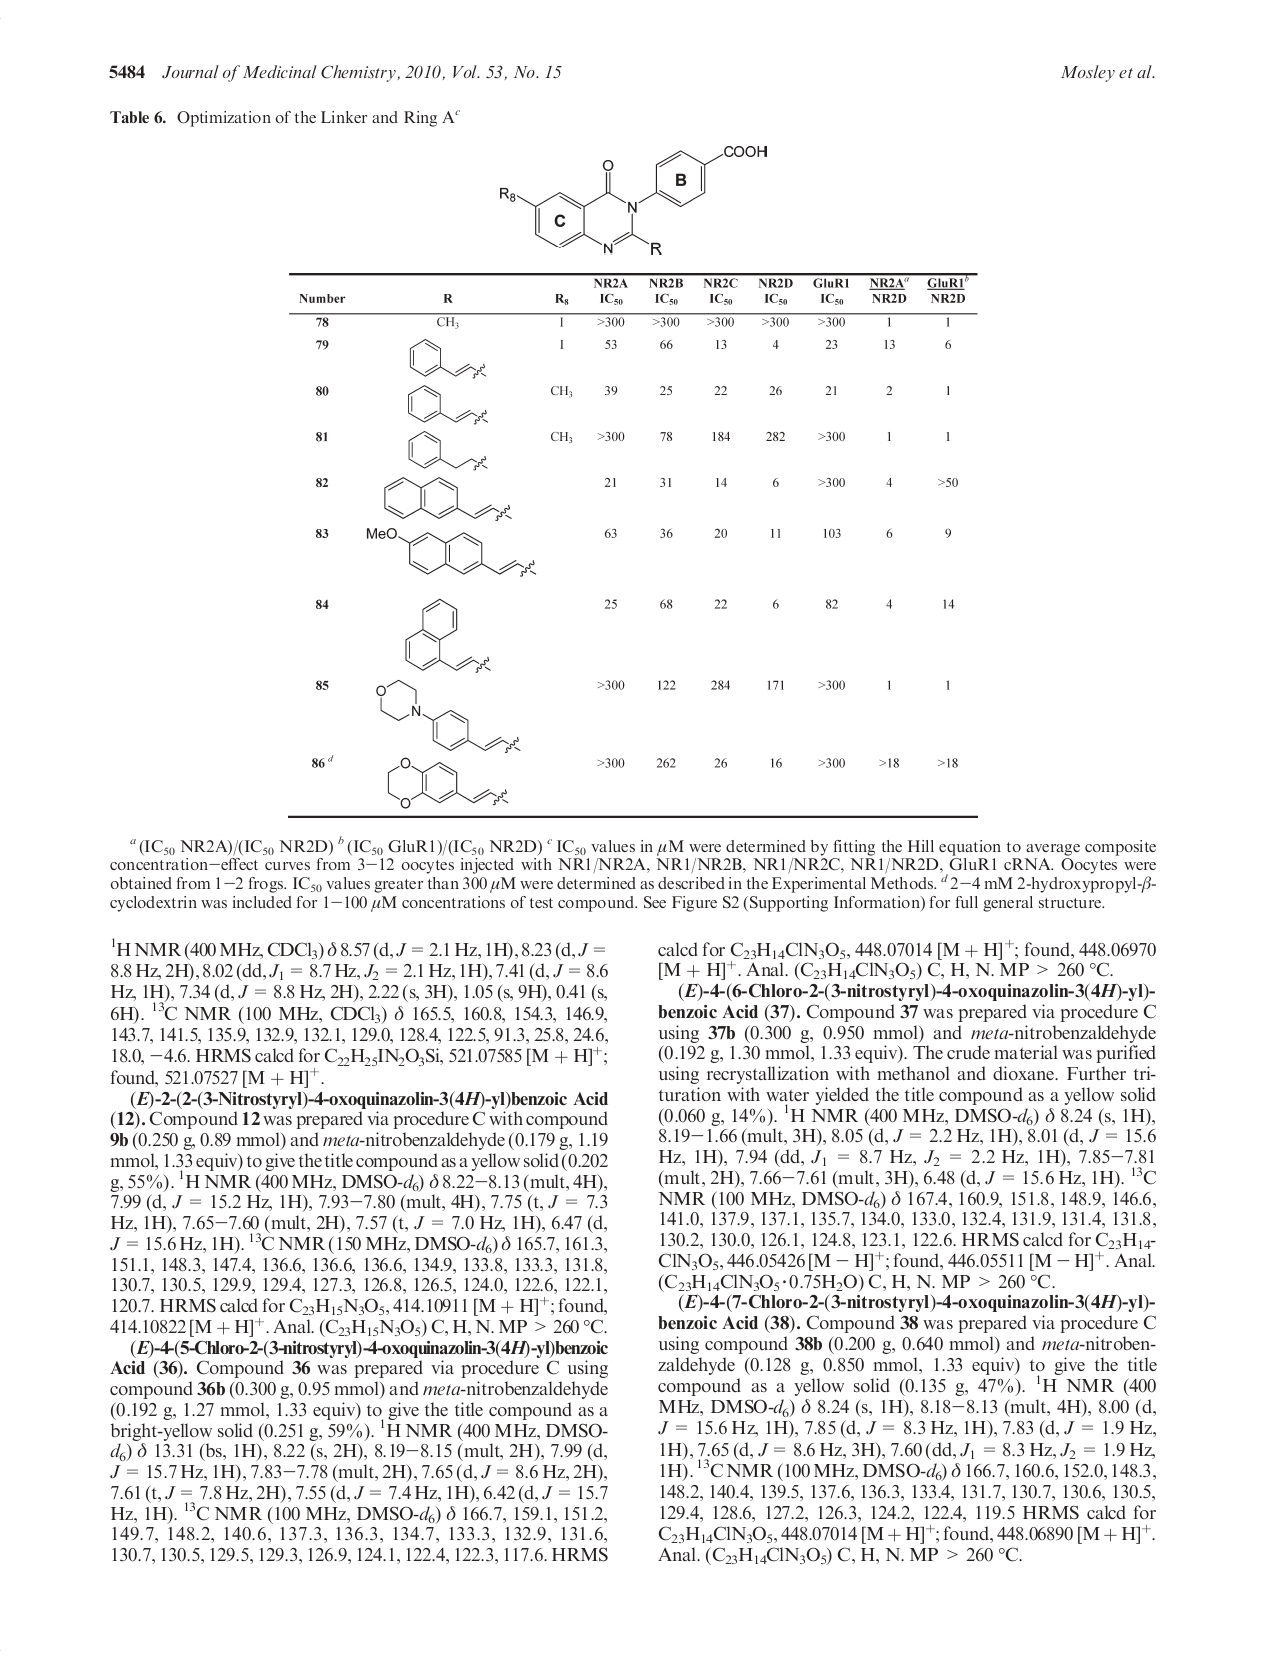exist_molecular: (496, 144, 770, 255), (364, 677, 528, 757), (359, 517, 539, 588), (392, 596, 501, 677), (368, 755, 519, 810), (376, 469, 520, 524), (396, 380, 499, 431), (394, 430, 492, 477), (402, 334, 496, 382)
